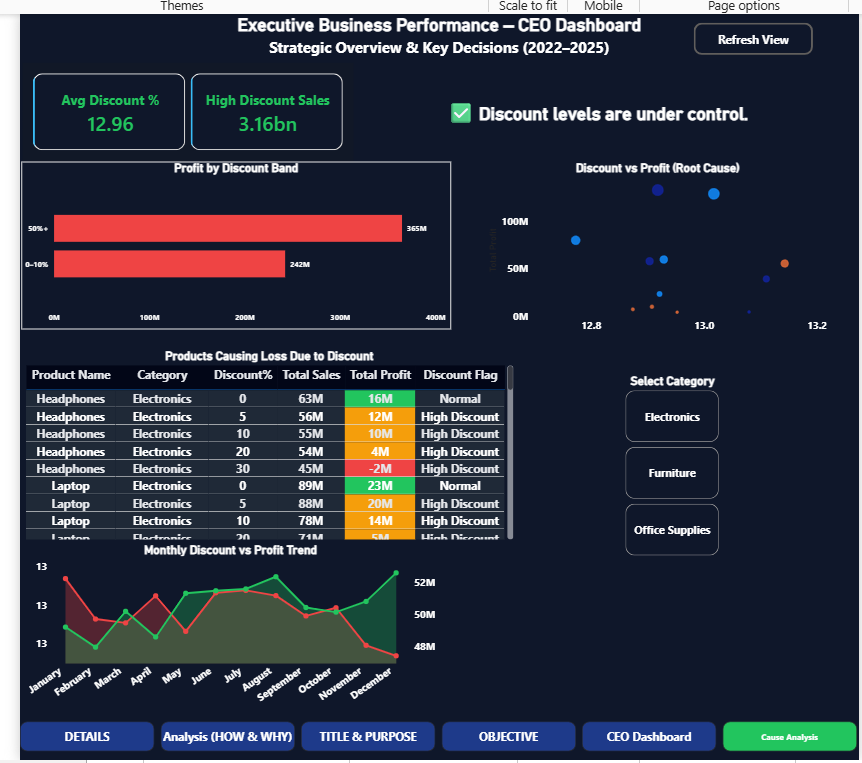

The dashboard page shown, as its layout file describes it:
{"tool":"powerbi","page":{"name":"Cause Analysis","canvas":[1350,1200],"ordinal":5},"visuals":[{"type":"textbox","title":"Executive Business Performance – CEO Dashboard","box":[0,0,1349.2,75.6],"z":0},{"type":"cardVisual","fields":{"Data":["Sales_Fact_Table.Avg Discount %","Sales_Fact_Table.High Discount Sales"]},"box":[4,78.4,532.8,158.8],"z":1000},{"type":"clusteredBarChart","title":"Profit by Discount Band","fields":{"Y":["Sales_Fact_Table.Total Profit"],"Category":["Sales_Fact_Table.Discount Band"]},"box":[2,237.3,691.7,269.4],"z":2000},{"type":"tableEx","title":"Products Causing Loss Due to Discount","fields":{"Values":["Product_Table.Product_Name","Product_Table.Category","Sales_Fact_Table.Discount%","Sales_Fact_Table.Total Sales","Sales_Fact_Table.Total Profit","Sales_Fact_Table.Discount Flag"]},"box":[4,538.9,794.2,311.7],"z":3000},{"type":"advancedSlicerVisual","title":"Select Category","fields":{"Values":["Product_Table.Category"]},"box":[969.2,579.1,160.9,299.6],"z":5000},{"type":"actionButton","box":[1083.8,14.7,191.7,51.6],"z":6000},{"type":"pageNavigator","box":[0,1138.1,1349.2,48.3],"z":7000},{"type":"card","fields":{"Values":["Sales_Fact_Table.Process Insight"]},"box":[542.9,110.6,772.1,96.5],"z":12000},{"type":"scatterChart","title":"Discount vs Profit (Root Cause)","fields":{"Y":["Sales_Fact_Table.Total Profit"],"X":["Avg(Sales_Fact_Table.Discount%)"],"Size":["Sales_Fact_Table.Total Sales"],"Series":["Product_Table.Category"],"Category":["Product_Table.Product_ID"]},"box":[748,237.3,555,285.5],"z":12001},{"type":"lineChart","title":"Monthly Discount vs Profit Trend","fields":{"Category":["Calendar_Table.YearMonth.Variation.Date Hierarchy.Month"],"Y":["Avg(Sales_Fact_Table.Discount%)"],"Y2":["Sales_Fact_Table.Total Profit"]},"box":[4,850.5,669.6,273.5],"z":12002}]}

Visuals, with their boxes on the page's 1350x1200 design canvas (x1, y1, x2, y2). These are canvas units, not pixel positions in the 862x763 screenshot, which may show the page scaled, cropped or inside an application window:
"Executive Business Performance – CEO Dashboard" textbox: l=0, t=0, r=1349, b=76
cardVisual - Sales_Fact_Table.Avg Discount % x Sales_Fact_Table.High Discount Sales: l=4, t=78, r=537, b=237
"Profit by Discount Band" clusteredBarChart: l=2, t=237, r=694, b=507
"Products Causing Loss Due to Discount" tableEx: l=4, t=539, r=798, b=851
"Select Category" advancedSlicerVisual: l=969, t=579, r=1130, b=879
actionButton: l=1084, t=15, r=1276, b=66
pageNavigator: l=0, t=1138, r=1349, b=1186
card - Sales_Fact_Table.Process Insight: l=543, t=111, r=1315, b=207
"Discount vs Profit (Root Cause)" scatterChart: l=748, t=237, r=1303, b=523
"Monthly Discount vs Profit Trend" lineChart: l=4, t=850, r=674, b=1124
